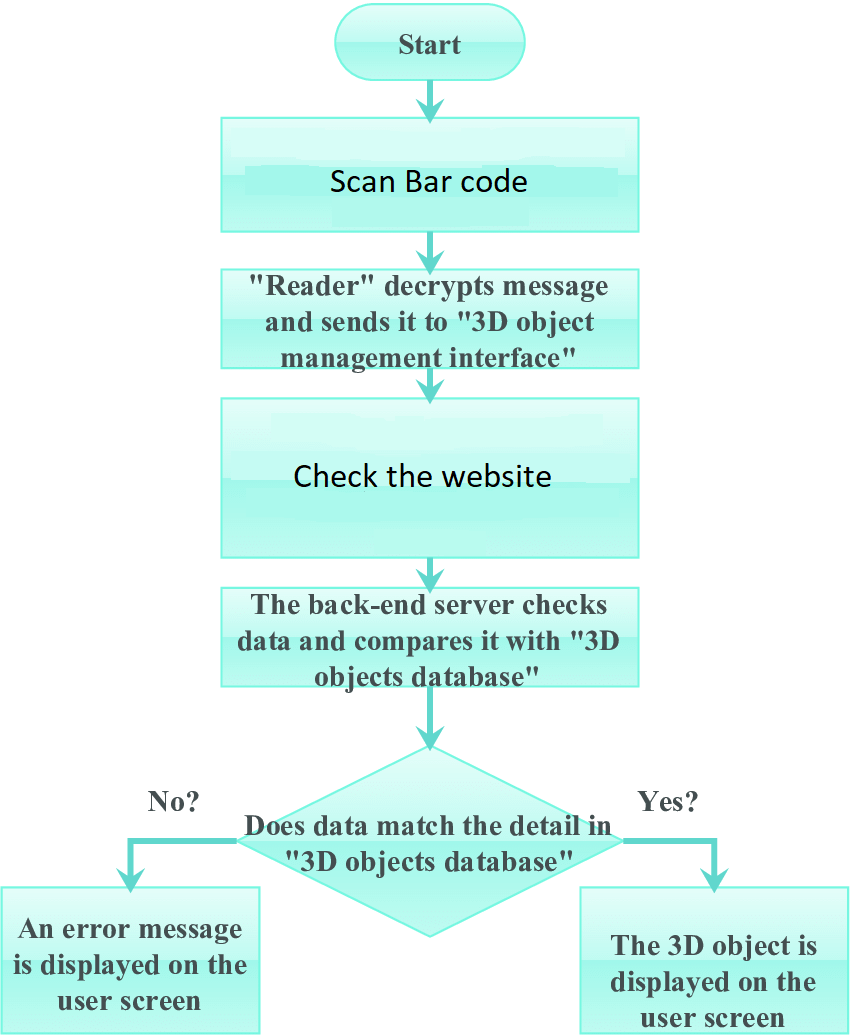arrow: (111, 833, 247, 897), (612, 835, 731, 895), (411, 686, 447, 754), (406, 359, 454, 402), (411, 73, 449, 127), (409, 229, 447, 278), (411, 551, 450, 589)
process: (238, 744, 630, 941), (215, 392, 646, 565), (214, 111, 644, 238), (212, 263, 644, 379), (214, 581, 646, 695), (571, 881, 850, 1034), (1, 879, 266, 1035)
terminator: (330, 1, 531, 87)
text: (244, 270, 615, 373), (233, 590, 623, 687), (241, 811, 614, 881), (11, 913, 252, 1014), (604, 932, 821, 1035), (292, 459, 557, 492), (328, 162, 531, 195), (393, 27, 463, 59), (633, 784, 700, 816), (144, 786, 203, 817)
